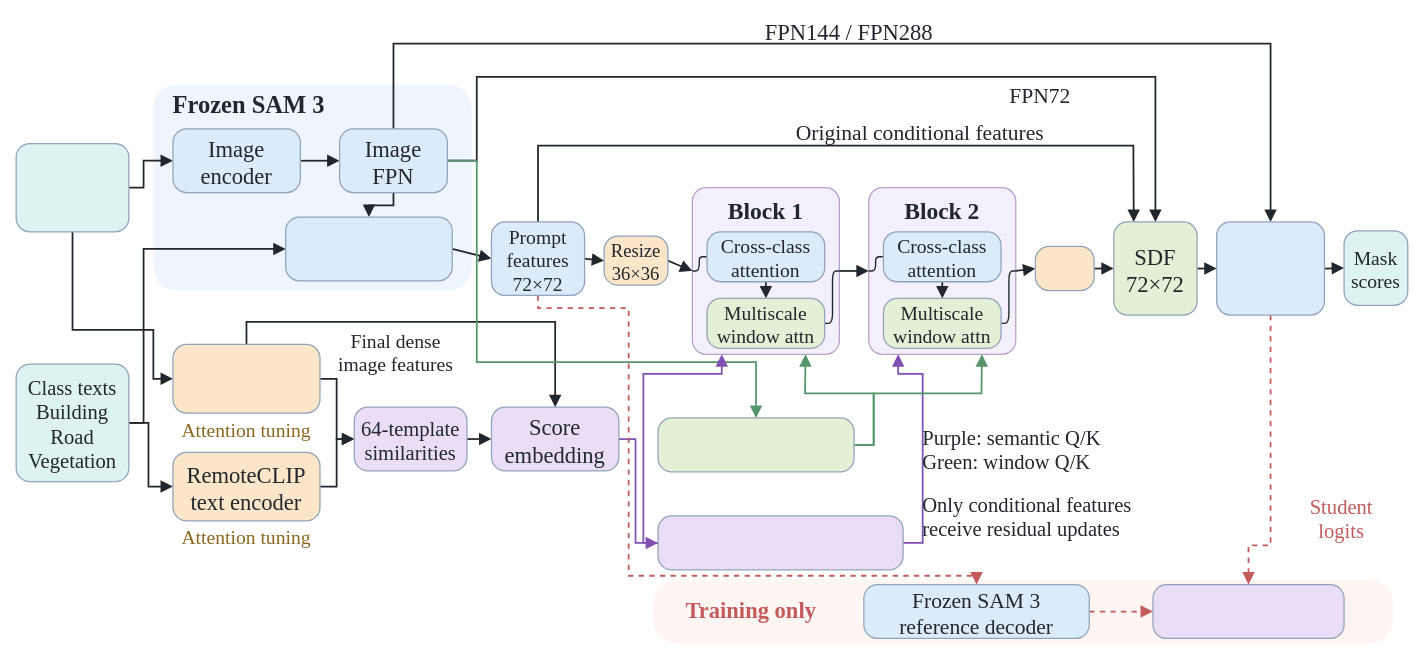
Some shapes in this 1424 by 660 pixel diagram are drawn without their labels. Each missing label, with the centre of its shape:
"Frozen decoder + head" goes at (x=1270, y=268).
"Input image" goes at (x=72, y=187).
"LN" goes at (x=1064, y=268).
"Prompt-conditioned encoder" goes at (x=368, y=248).
"RemoteCLIP image encoder" goes at (x=246, y=378).
"SAM 3 FPN guide Resize to 36×36" goes at (x=755, y=444).
"Semantic guidance 36×36 Reused across blocks" goes at (x=780, y=542).
"Soft-mask distillation" goes at (x=1248, y=611).
